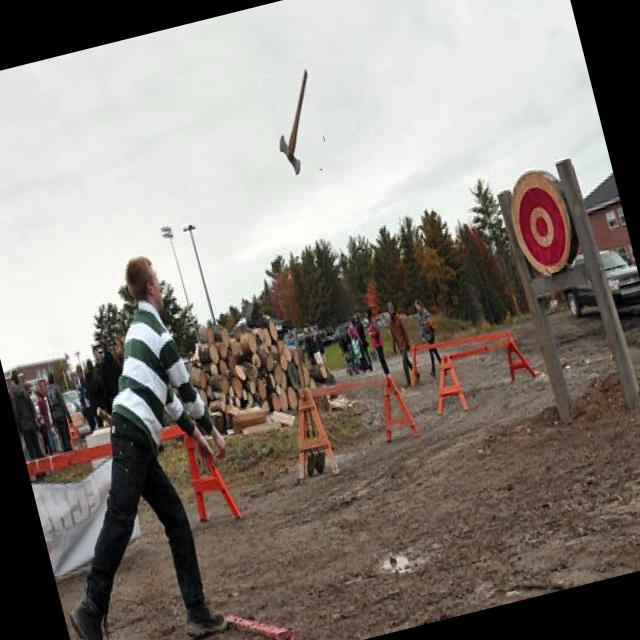Axe: (280, 70, 308, 174)
